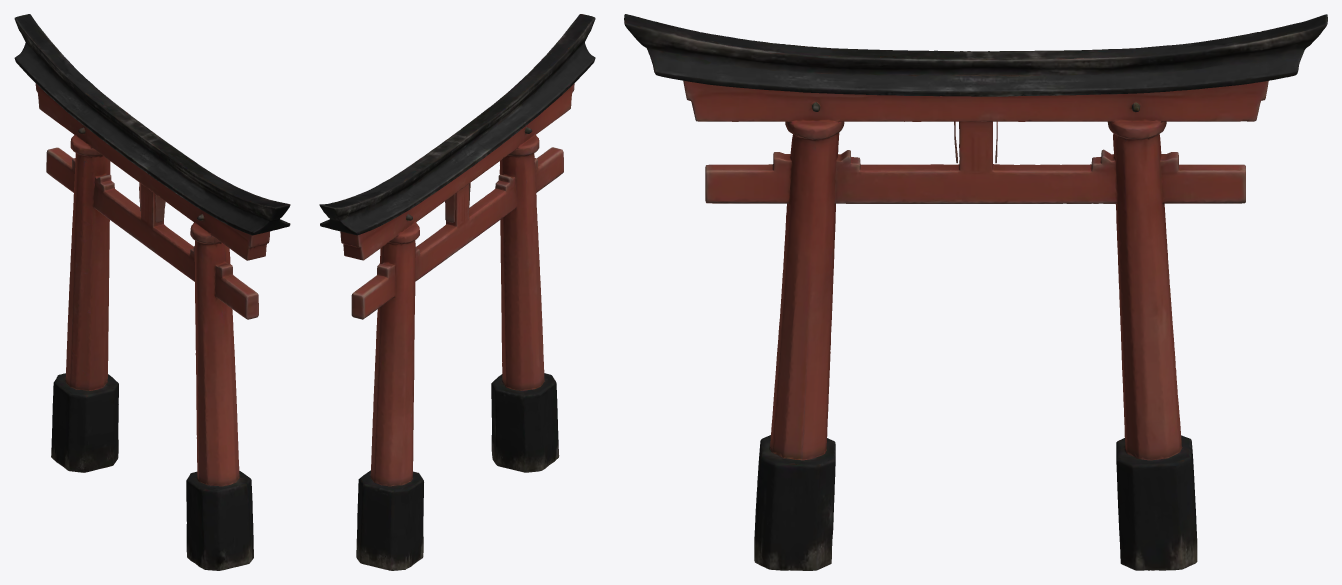
The model's file is torii.0.glb.
3 views of the same model, side by side, from view 1: azimuth 30°, elevation 25°; view 2: azimuth 150°, elevation 25°; view 3: azimuth 270°, elevation 25° (orthographic). The views are drawn at different scales.
Visible parts, largest first — view 1: geometry_0; view 2: geometry_0; view 3: geometry_0.
Boxes of the visible parts, x1=… form: geometry_0: x1=14, y1=14, x2=290, y2=570; geometry_0: x1=319, y1=14, x2=595, y2=570; geometry_0: x1=624, y1=14, x2=1327, y2=570.
Size of the model in its own units: 0.1125 by 0.841 by 0.9991.
1 material, 1 textured.
